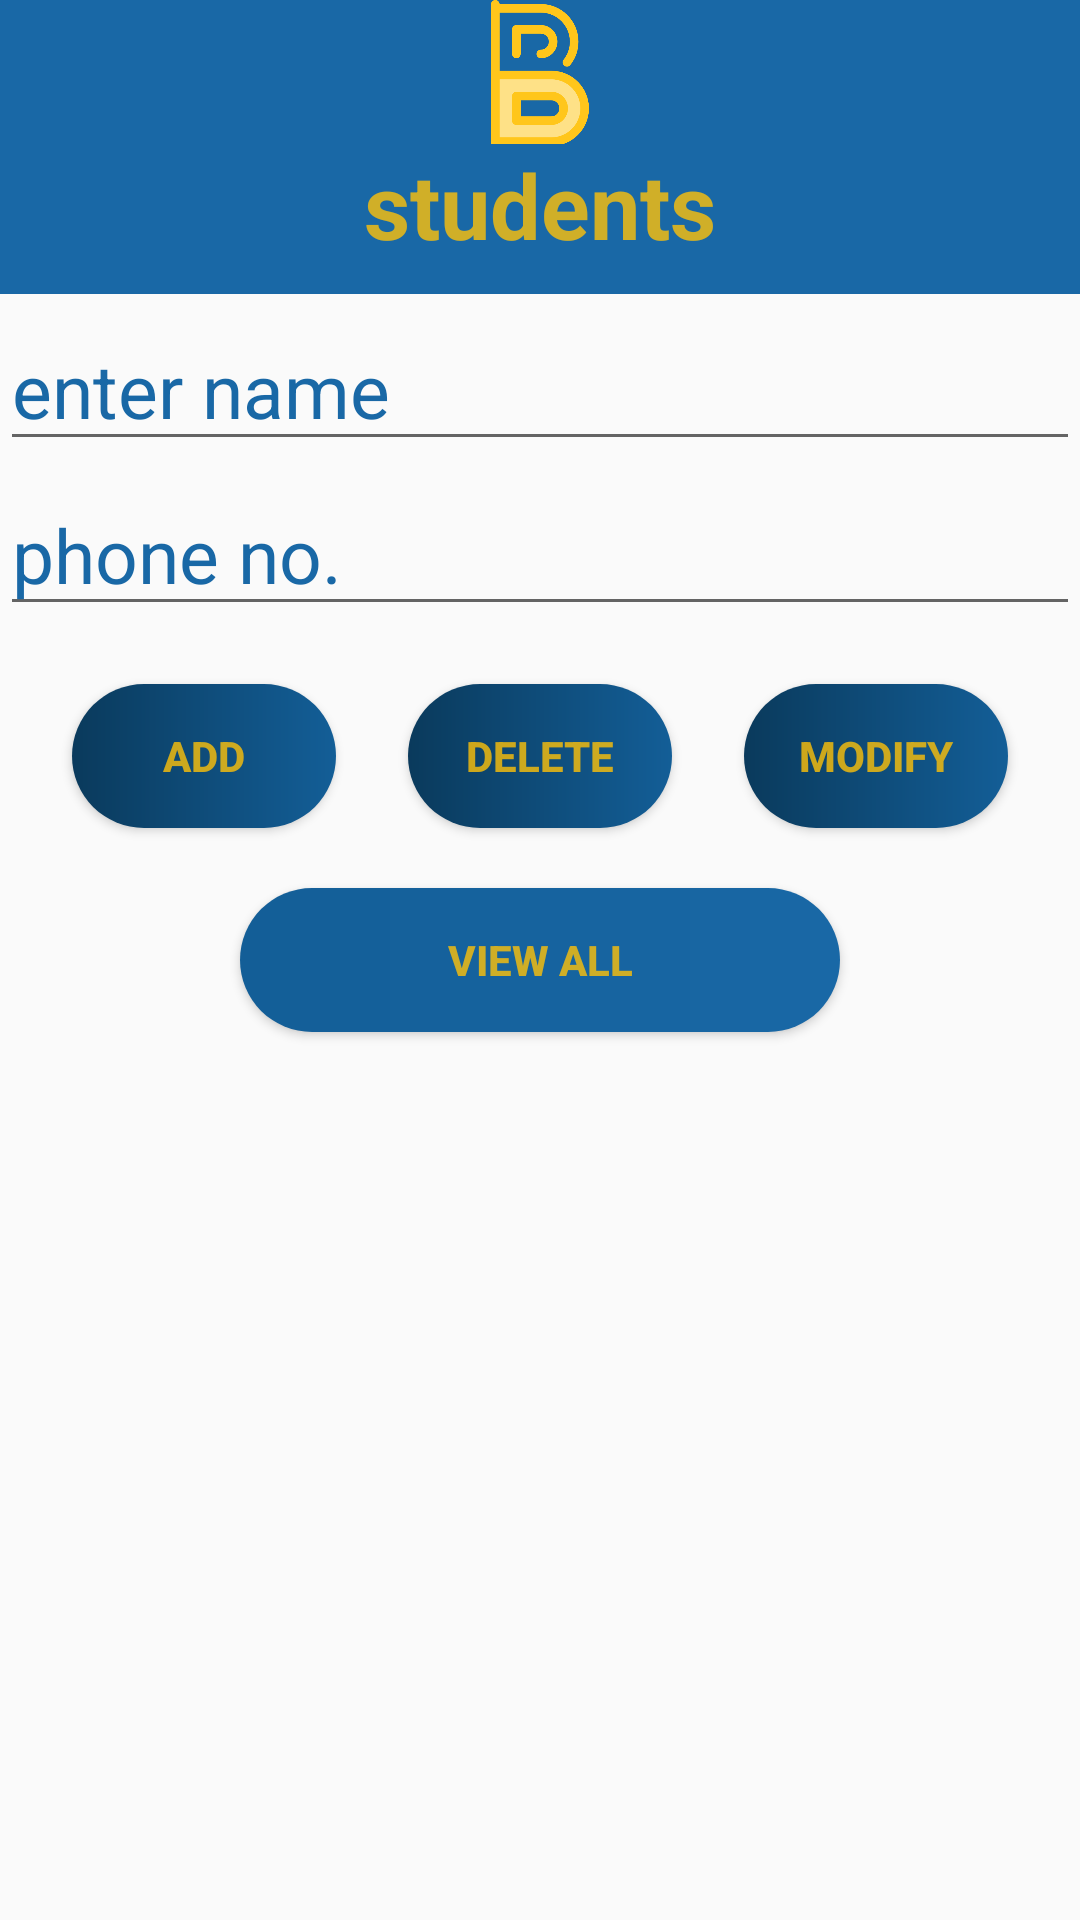

Where icons sit on this 1080x1920 app screen, as (x1, y1, x2, y2):
letterb: (491, 0, 589, 144)
